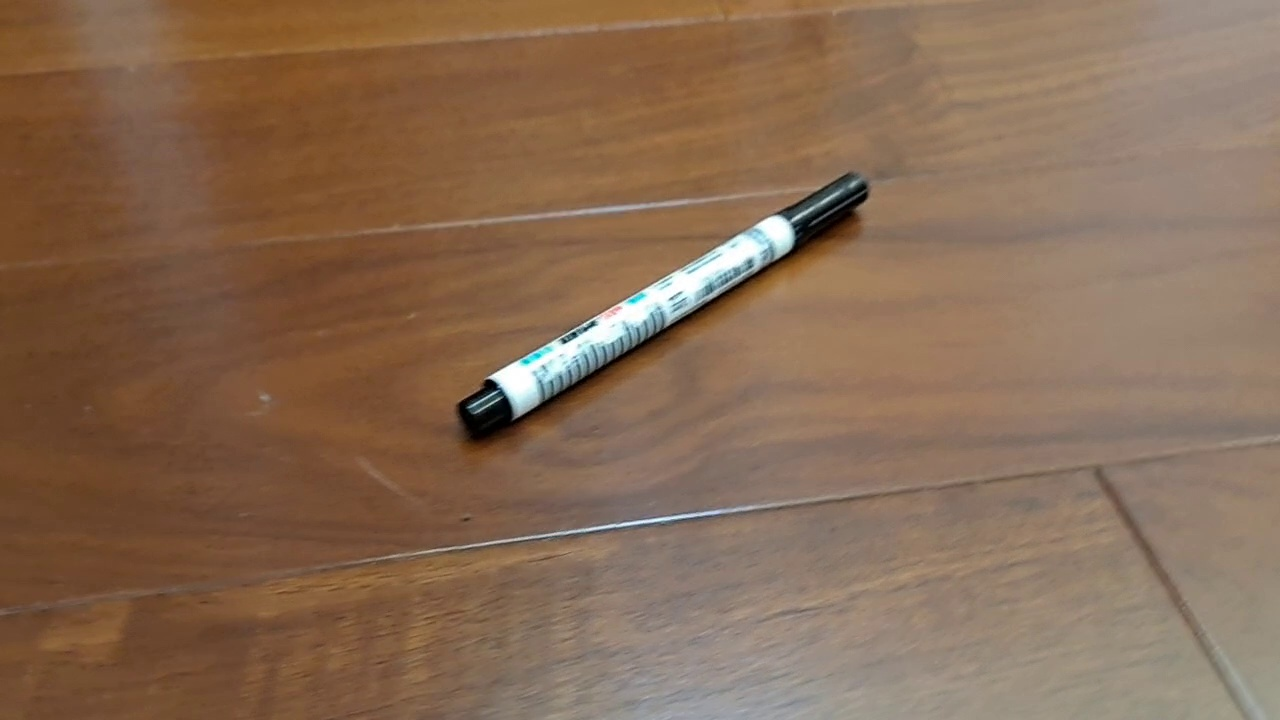pen: (456, 171, 871, 442)
